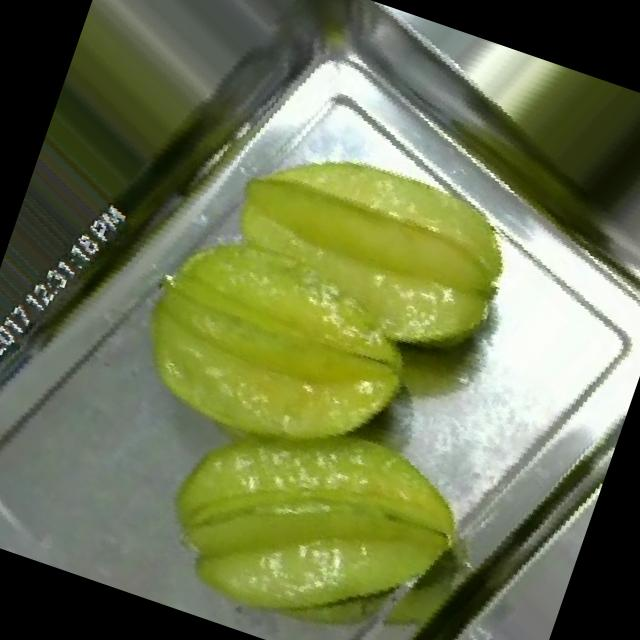fruit: (18, 39, 579, 640)
